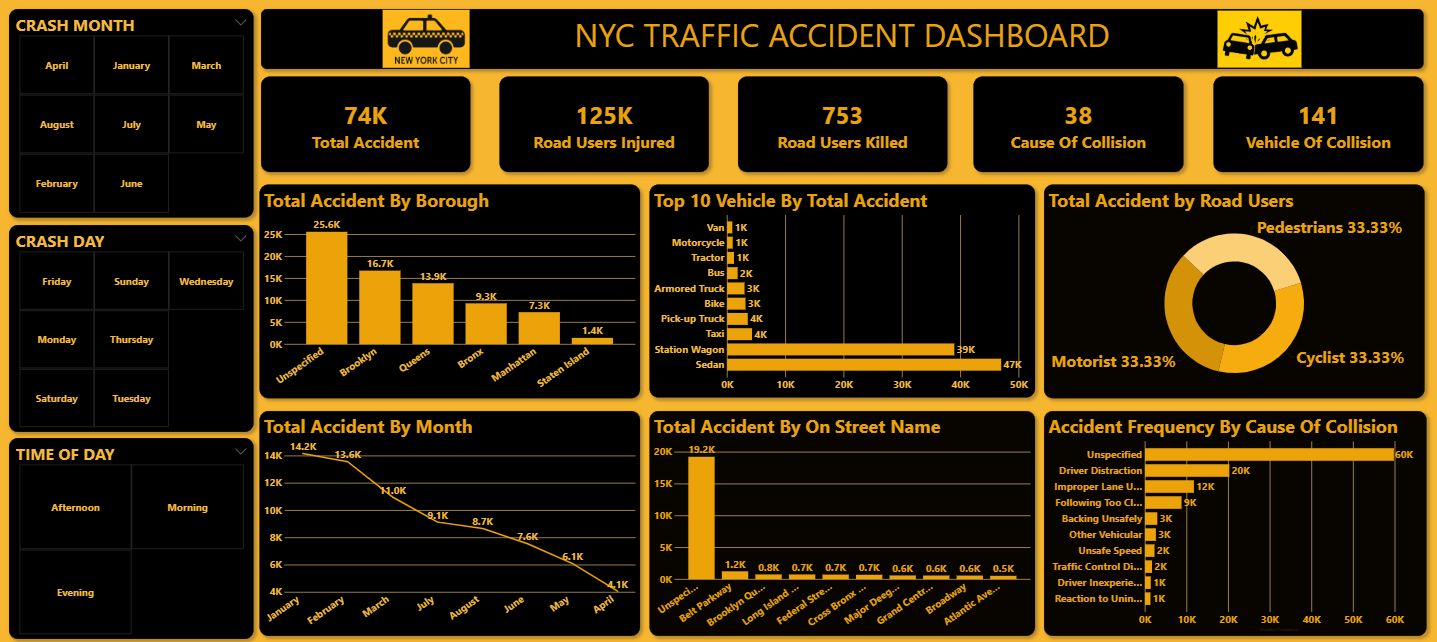

The page's visual inventory and layout, read from the dashboard file:
{"tool":"powerbi","page":{"name":"Dashboard","canvas":[4800,2150],"ordinal":0},"visuals":[{"type":"textbox","box":[881.2,31.2,3875,200],"z":0},{"type":"columnChart","title":"Total Accident By Borough","fields":{"Category":["NYC_Accidents.BOROUGH"],"Y":["NYC_Accidents.Accident Frequency"]},"box":[875,612.5,1268.8,712.5],"z":1000},{"type":"lineChart","title":"Total Accident By Month","fields":{"Y":["NYC_Accidents.Accident Frequency"],"Category":["NYC_Accidents.CRASH MONTH"]},"box":[875,1368.8,1268.8,750],"z":2000},{"type":"clusteredBarChart","title":"Top 10 Vehicle By Total Accident","fields":{"Category":["NYC_Accidents.VEHICLE OF COLLISION"],"Y":["NYC_Accidents.Accident Frequency"]},"box":[2175,615,1285,710],"z":3000},{"type":"donutChart","title":"Total Accident by Road Users","fields":{"Y":["NYC_Accidents.Accident Frequency"],"Category":["NYC_Accidents.ROAD USER"]},"box":[3487.5,612.5,1268.8,712.5],"z":4000},{"type":"barChart","title":"Accident Frequency By Cause Of  Collision","fields":{"Y":["NYC_Accidents.Accident Frequency"],"Category":["NYC_Accidents.CAUSE OF COLLISION"]},"box":[3487.5,1368.8,1275,750],"z":5000},{"type":"columnChart","title":"Total Accident  By On Street Name","fields":{"Y":["NYC_Accidents.Accident Frequency"],"Category":["NYC_Accidents.ON STREET NAME"]},"box":[2175,1370,1285,750],"z":6000},{"type":"card","fields":{"Values":["NYC_Accidents.Accident Frequency"]},"box":[881,256.2,698,318.8],"z":7000},{"type":"card","title":"Road Users Injured","fields":{"Values":["Sum(NYC_Accidents.INJURED)"]},"box":[1676,256.2,698,318.8],"z":8000},{"type":"card","fields":{"Values":["Sum(NYC_Accidents.KILLED)"]},"box":[2471,256.2,698,318.8],"z":9000},{"type":"card","fields":{"Values":["Count(NYC_Accidents.CAUSE OF COLLISION)"]},"box":[3256.2,256.2,700,318.8],"z":10000},{"type":"card","fields":{"Values":["Count(NYC_Accidents.VEHICLE OF COLLISION)"]},"box":[4056.2,256.2,700,318.8],"z":11000},{"type":"slicer","fields":{"Values":["NYC_Accidents.CRASH MONTH"]},"box":[40,30,815,695],"z":12000},{"type":"slicer","fields":{"Values":["NYC_Accidents.CRASH DAY"]},"box":[40,750,815,690],"z":13000},{"type":"slicer","fields":{"Values":["NYC_Accidents.TIME OF DAY"]},"box":[40,1460,815,670],"z":14000},{"type":"image","box":[1277.8,0,300,258.3],"z":15000},{"type":"image","box":[3986.1,30.6,447.2,200],"z":16000}]}

Visuals, with their boxes in screenshot pixels (x1, y1, x2, y2), scaled from the page's 4800x2150 canvas onto the 1437x642 screenshot:
textbox: Rect(264, 9, 1424, 69)
"Total Accident By Borough" columnChart: Rect(262, 183, 642, 396)
"Total Accident By Month" lineChart: Rect(262, 409, 642, 633)
"Top 10 Vehicle By Total Accident" clusteredBarChart: Rect(651, 184, 1036, 396)
"Total Accident by Road Users" donutChart: Rect(1044, 183, 1424, 396)
"Accident Frequency By Cause Of  Collision" barChart: Rect(1044, 409, 1426, 633)
"Total Accident  By On Street Name" columnChart: Rect(651, 409, 1036, 633)
card - NYC_Accidents.Accident Frequency: Rect(264, 77, 473, 172)
"Road Users Injured" card: Rect(502, 77, 711, 172)
card - Sum(NYC_Accidents.KILLED): Rect(740, 77, 949, 172)
card - Count(NYC_Accidents.CAUSE OF COLLISION): Rect(975, 77, 1184, 172)
card - Count(NYC_Accidents.VEHICLE OF COLLISION): Rect(1214, 77, 1424, 172)
slicer - NYC_Accidents.CRASH MONTH: Rect(12, 9, 256, 216)
slicer - NYC_Accidents.CRASH DAY: Rect(12, 224, 256, 430)
slicer - NYC_Accidents.TIME OF DAY: Rect(12, 436, 256, 636)
image: Rect(383, 0, 472, 77)
image: Rect(1193, 9, 1327, 69)
